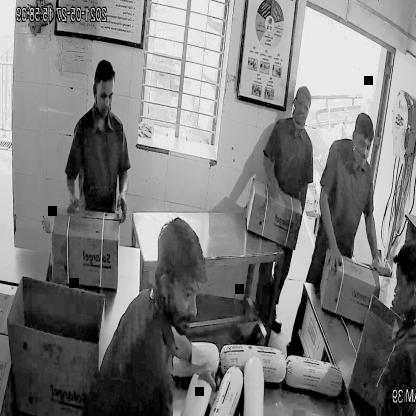no_goggles: (87, 87, 118, 108), (349, 136, 376, 157)
